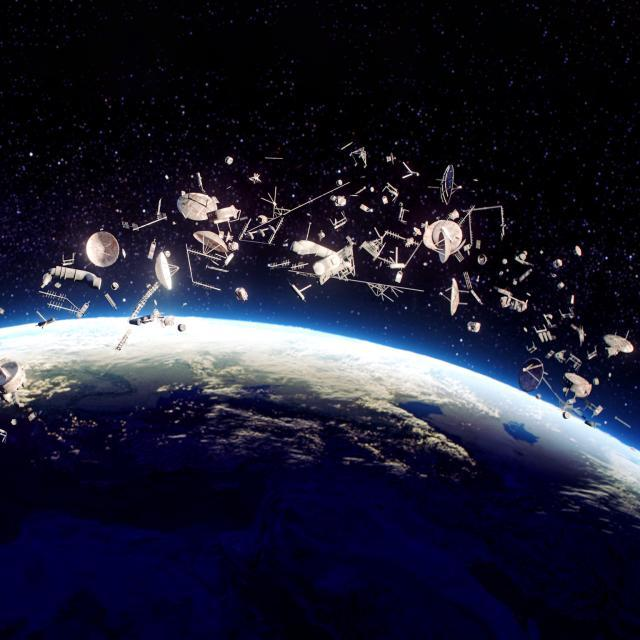large_debris: (288, 222, 424, 302), (247, 182, 350, 232), (518, 358, 585, 419), (128, 246, 180, 322), (421, 205, 476, 263), (186, 231, 239, 290), (357, 227, 422, 270), (177, 173, 220, 221), (561, 372, 604, 420), (121, 194, 170, 236), (427, 159, 465, 206), (463, 205, 506, 246), (39, 266, 102, 289), (39, 291, 90, 319), (129, 299, 175, 330), (0, 358, 27, 408), (84, 230, 120, 267), (238, 217, 284, 245), (206, 205, 241, 239), (439, 278, 470, 316), (496, 288, 529, 314), (603, 330, 633, 358), (112, 328, 133, 358), (266, 259, 309, 271), (288, 282, 312, 303), (35, 311, 58, 329), (329, 210, 349, 230), (570, 323, 586, 347), (349, 147, 367, 168), (512, 269, 534, 286), (534, 325, 556, 342), (565, 353, 583, 373), (104, 290, 118, 315), (383, 182, 399, 203), (402, 162, 420, 180), (515, 250, 535, 266), (62, 249, 80, 266), (558, 307, 577, 322), (215, 252, 234, 267), (234, 286, 248, 303), (468, 319, 482, 335), (398, 207, 410, 225), (614, 416, 632, 428), (470, 289, 483, 305), (331, 195, 347, 207), (543, 314, 556, 328), (385, 151, 397, 165), (587, 346, 599, 360), (206, 265, 229, 272), (148, 239, 156, 259), (249, 172, 262, 184), (553, 257, 565, 270), (554, 350, 566, 363), (463, 272, 472, 289), (525, 341, 537, 353), (395, 270, 404, 284), (476, 254, 488, 264), (574, 246, 584, 258), (121, 245, 128, 262), (111, 281, 122, 291), (0, 429, 7, 444), (340, 142, 353, 150), (224, 154, 233, 165), (224, 231, 233, 242), (544, 350, 555, 359), (359, 205, 371, 213), (354, 186, 366, 194), (570, 292, 576, 307), (412, 227, 422, 236), (549, 271, 559, 279), (557, 282, 567, 290), (584, 420, 594, 428), (318, 230, 325, 241), (28, 412, 36, 421), (178, 324, 186, 332), (562, 412, 571, 419), (382, 195, 388, 205), (593, 377, 600, 385), (476, 240, 481, 250), (464, 244, 471, 251), (368, 186, 376, 192), (211, 260, 219, 266), (594, 423, 602, 429), (535, 393, 541, 400), (524, 325, 529, 333), (0, 307, 5, 315), (240, 216, 248, 221), (265, 157, 283, 159), (538, 248, 544, 254), (11, 419, 17, 425), (336, 180, 342, 186), (54, 283, 61, 288), (476, 275, 480, 283), (503, 258, 508, 264), (526, 292, 531, 297), (283, 243, 289, 247), (183, 302, 187, 307), (350, 194, 358, 196), (147, 284, 151, 288), (399, 202, 403, 206), (390, 250, 394, 254), (226, 186, 231, 189), (284, 239, 289, 242), (307, 213, 311, 216), (468, 250, 469, 255), (256, 218, 258, 220)
